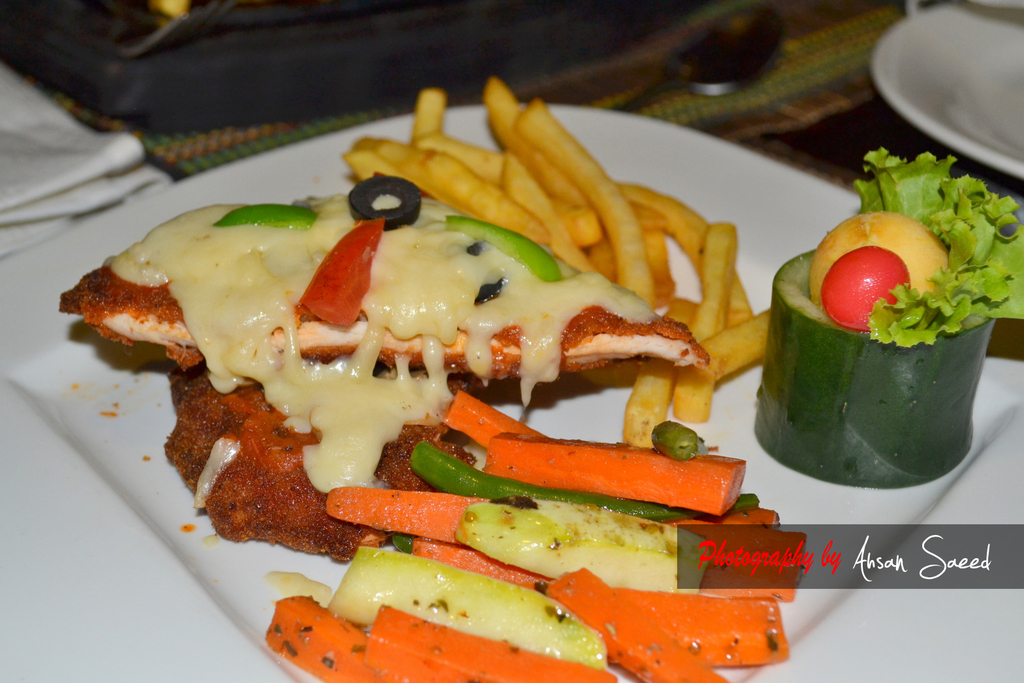French fries: (343, 76, 768, 453)
